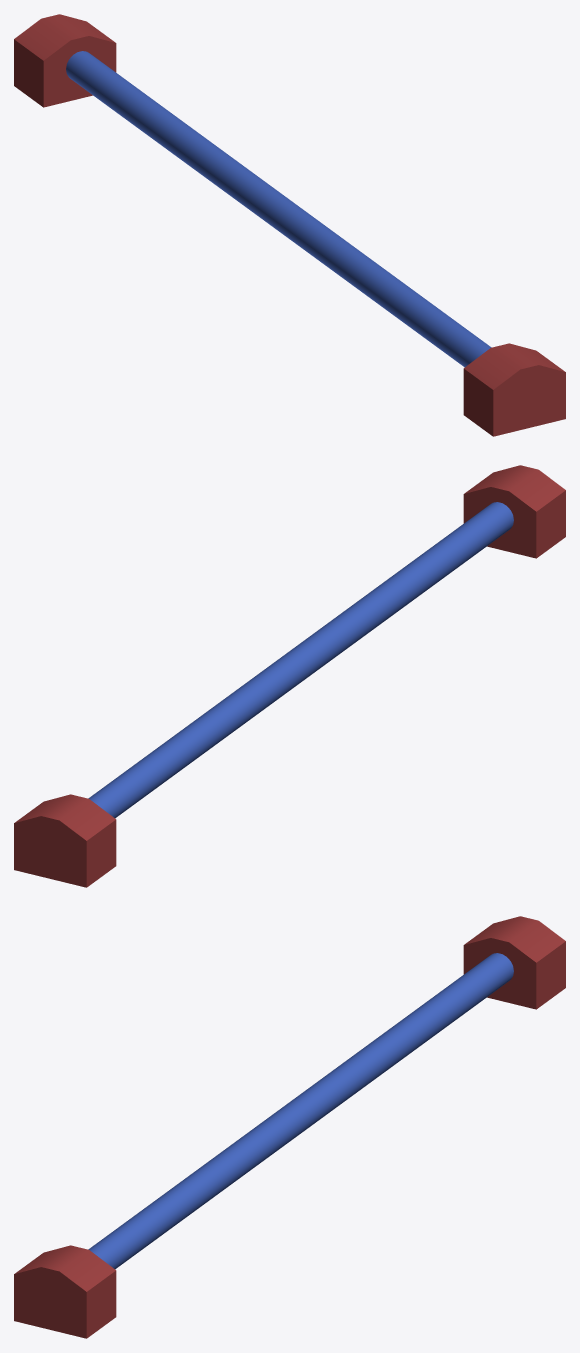
Rendered from neon.FBX.
3 renders of one model, top to bottom at view 1: azimuth 30°, elevation 25°; view 2: azimuth 150°, elevation 25°; view 3: azimuth 330°, elevation 25°, orthographic.
Parts seen in each view (by area): view 1: neon; view 2: neon; view 3: neon.
Part boxes in pixels (box(x1,y1,x2,y2)): neon: box(14, 14, 565, 436); neon: box(14, 465, 565, 887); neon: box(14, 916, 565, 1338).
Size of the model in its own units: 7.1 by 5.66 by 81.02.
